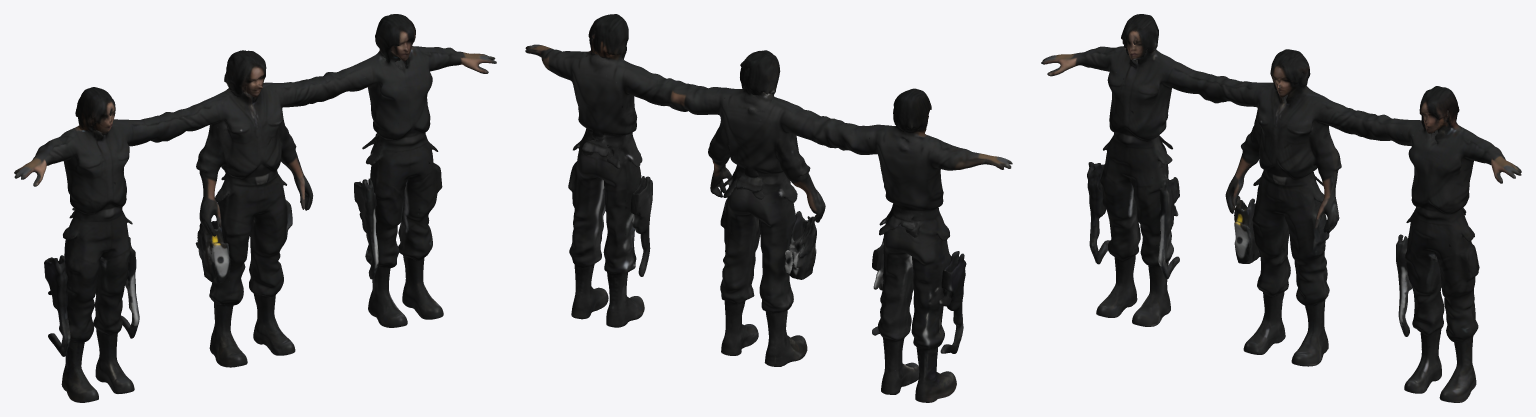
Rendered from Meshy_AI_Stealth_Sentinel_1228024854_texture.glb.
The picture shows the model from 3 angles, left to right: view 1: azimuth 30°, elevation 25°; view 2: azimuth 150°, elevation 25°; view 3: azimuth 330°, elevation 25°; orthographic projection.
Size of the model in its own units: 2.03 by 1.21 by 0.2304.
1 material, 1 textured.
